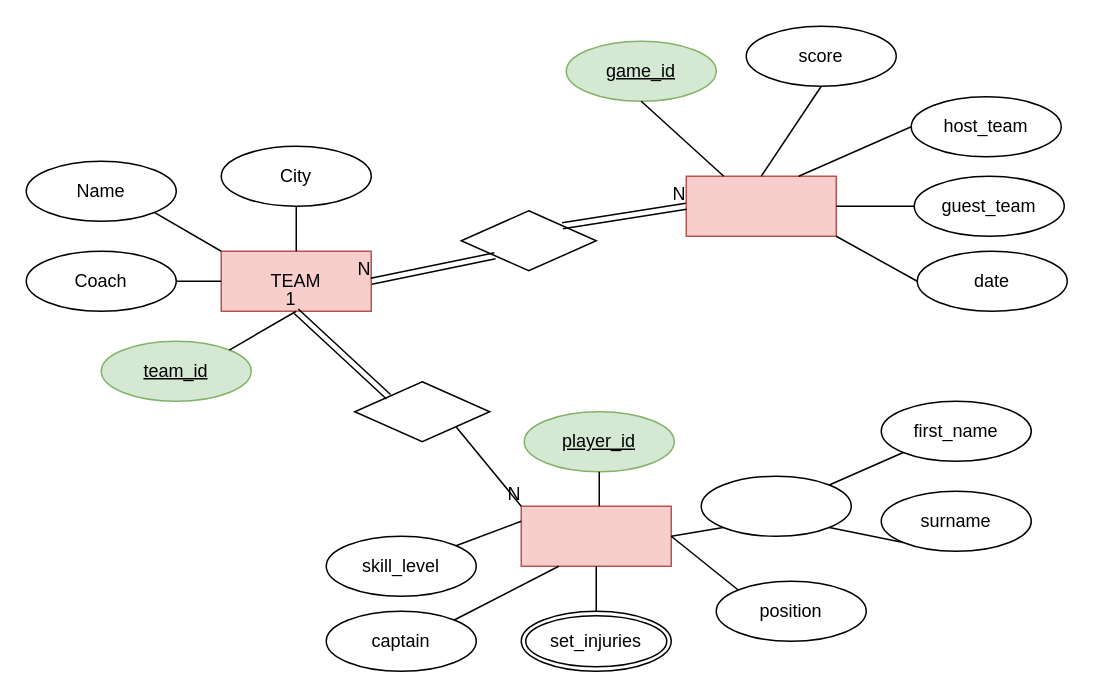
The diagram is 1094 pixels wide and 698 high, and some of its shapes have lost their labels. The shapes that lost their labels are listed below. From the top down, each one's box as (x1, y1, x2, y2) in pixels, then its label:
(685, 175, 836, 236): GAME
(460, 209, 596, 271): plays
(353, 380, 490, 442): belongs
(700, 475, 851, 536): full_name
(520, 505, 671, 566): PLAYER
